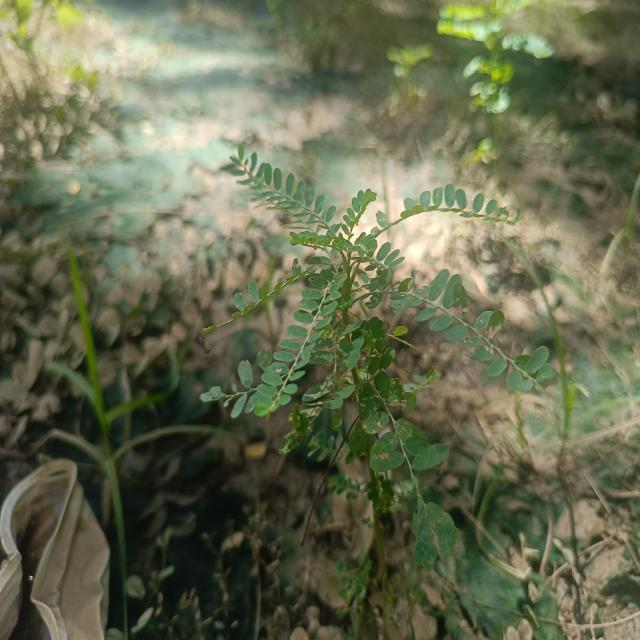weed: (183, 142, 567, 574)
